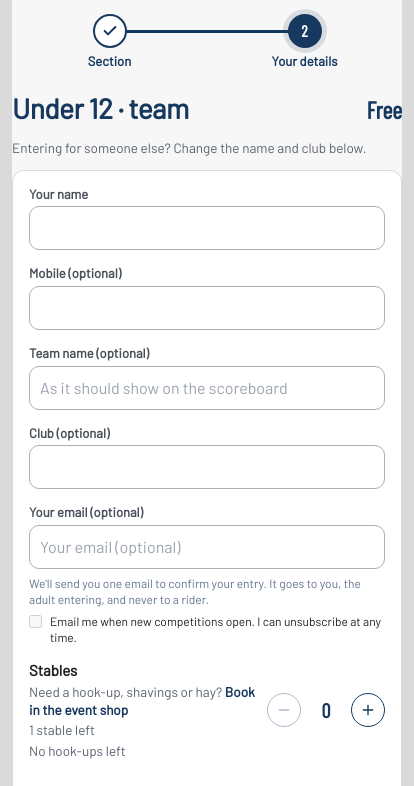
Test case: payment link and stables left › shows stables left and stops the stepper at the last one
Expected: the text "1 stable left" is shown, [29,721,95,738]
Expected: the text "No hook-ups left" is shown, [29,742,126,759]
Click the button named "One more stable". click: (368, 710)
box: [351,693,385,727]
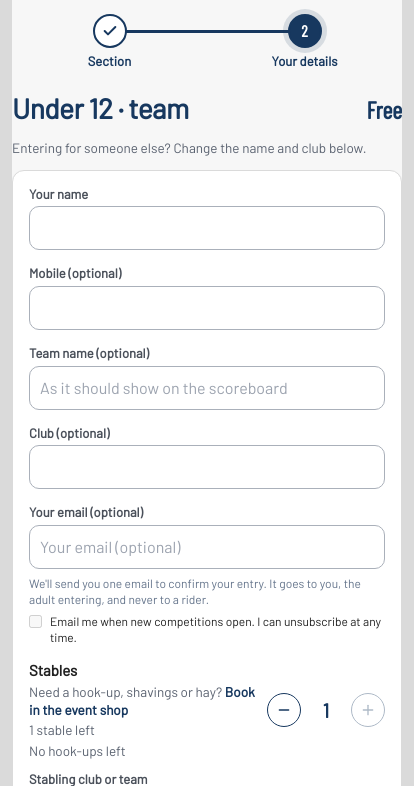
Now the button named "One more stable" is disabled, box [351,693,385,727]
